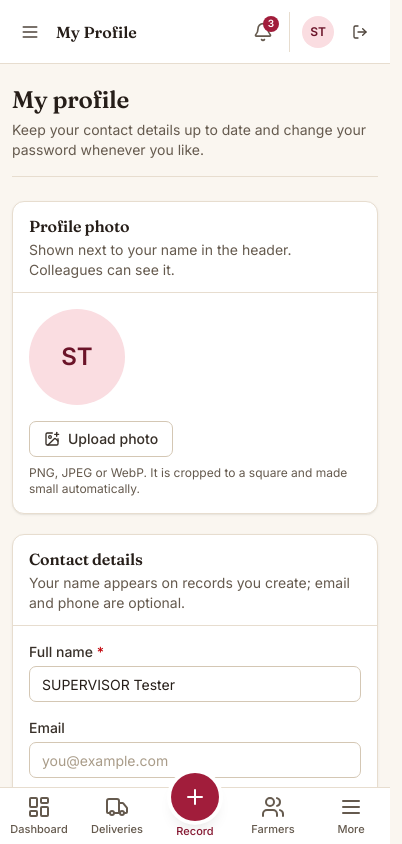
it: my profile › shows my role and stations read-only and saves my contact details
This screenshot has width=402, height=844.
Check: the heading "My profile" is shown, box x1=12 y1=85 x2=129 y2=114
Replace the text in the field labelled "Full name *" with "Alice M." at (195, 684), box x1=29 y1=666 x2=361 y2=702
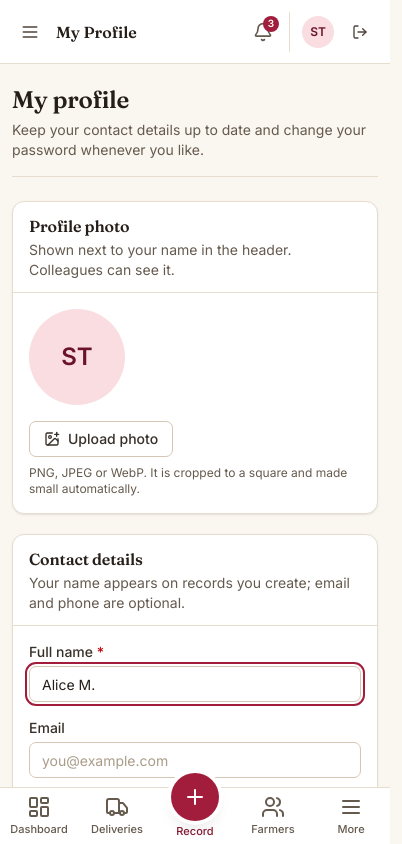
Type "alice@example.com" into the field labelled "Email" at (195, 760), box x1=29 y1=742 x2=361 y2=778
(page scrolled)
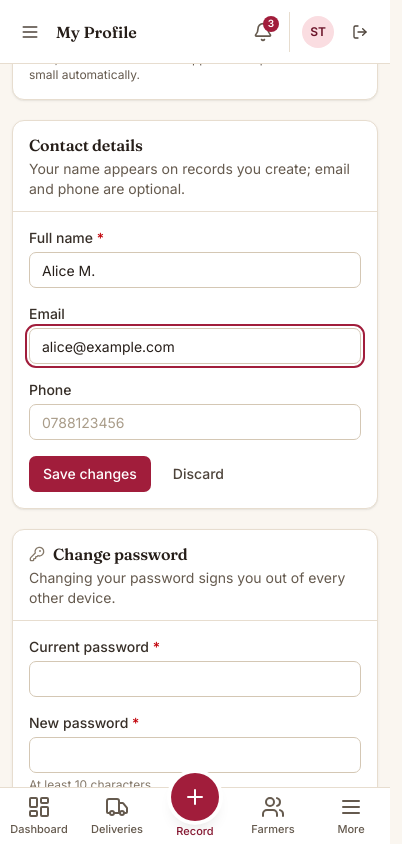
Type "12" into the field labelled "Phone" at (195, 422), box x1=29 y1=404 x2=361 y2=440
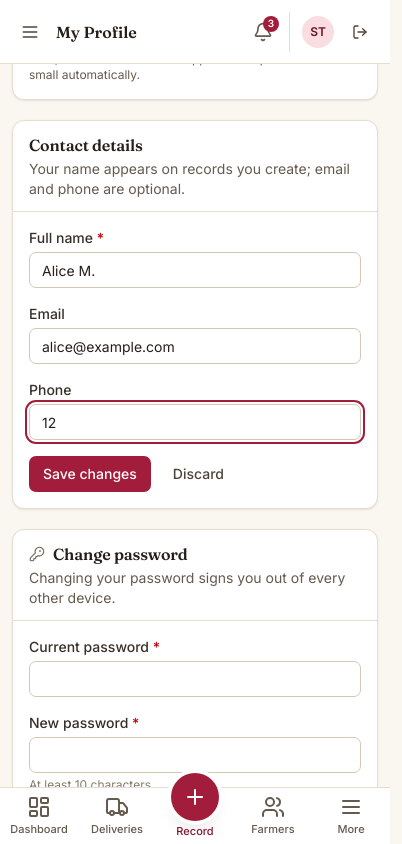
Click the button "Save changes" at (90, 474), box x1=29 y1=456 x2=151 y2=492
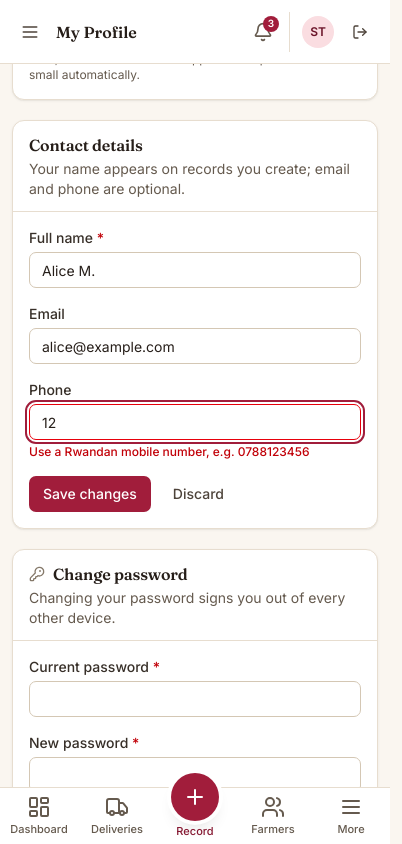
Check: the text "Use a Rwandan mobile number, e.g. 0788123456" is shown, box x1=29 y1=444 x2=310 y2=459
Replace the text in the field labelled "Phone" with "0788123456" at (195, 422), box x1=29 y1=404 x2=361 y2=440
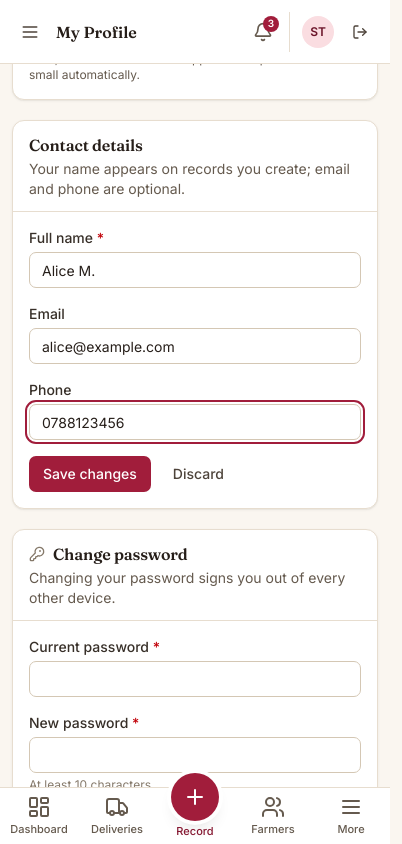
Click the button "Save changes" at (90, 474), box x1=29 y1=456 x2=151 y2=492
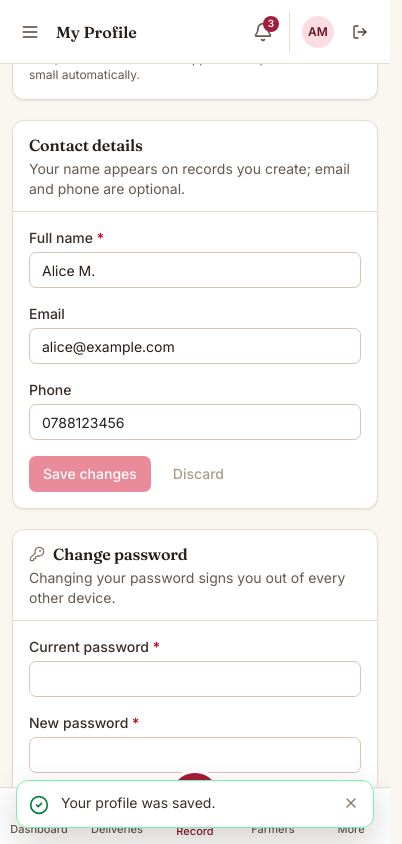
Check: the text "Your profile was saved." is shown, box x1=61 y1=794 x2=215 y2=811
